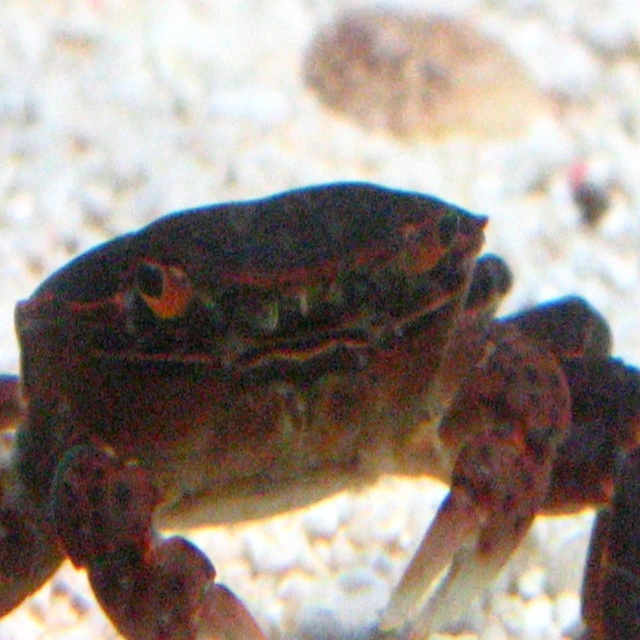Crab: (0, 180, 640, 639)
